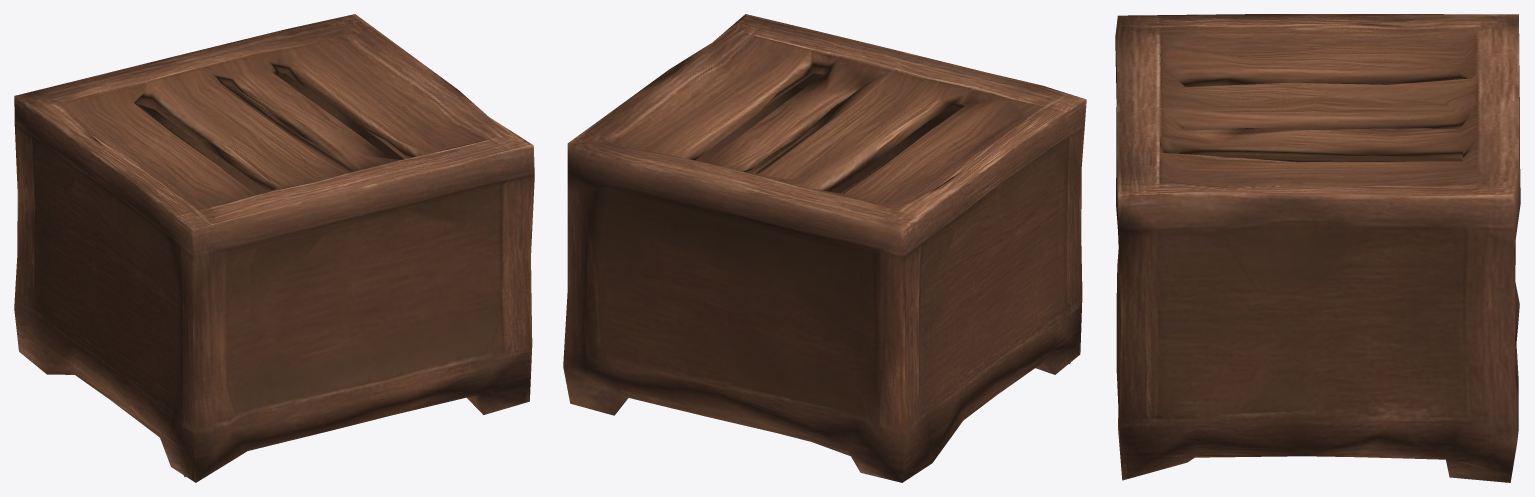
The model's file is offering_box.glb.
The picture shows the model from 3 angles, left to right: view 1: azimuth 30°, elevation 25°; view 2: azimuth 150°, elevation 25°; view 3: azimuth 270°, elevation 25°; orthographic projection. The views are drawn at different scales.
Parts seen in each view (by area): view 1: offering_box; view 2: offering_box; view 3: offering_box.
Boxes of the visible parts, bbox=[...] form: offering_box: bbox=[14, 14, 534, 482]; offering_box: bbox=[563, 14, 1086, 482]; offering_box: bbox=[1115, 14, 1520, 482].
Size of the model in its own units: 1 by 0.7281 by 0.9251.
1 material, 1 textured.
